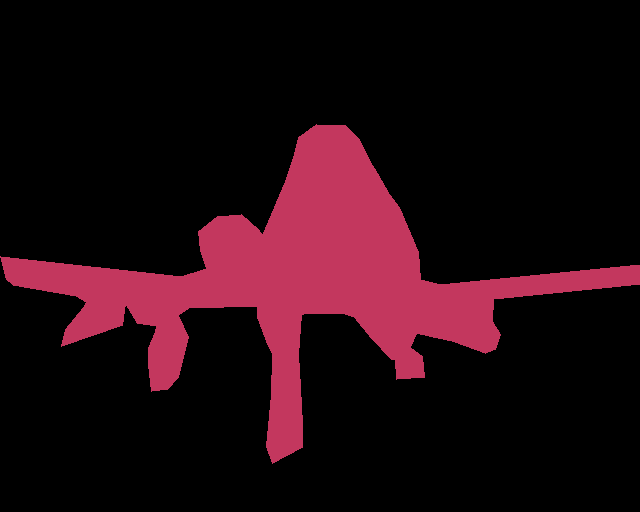Airplane: (0, 124, 640, 464)
